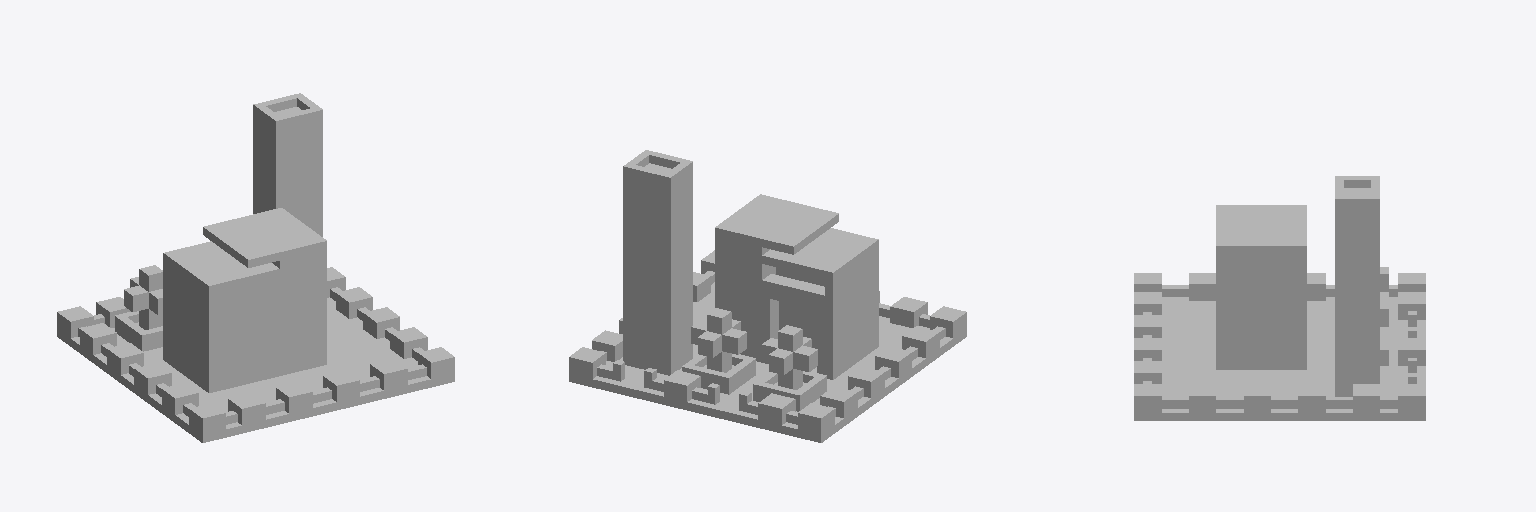
Rendered from house1.obj.
3 views of the same model, side by side, from view 1: azimuth 30°, elevation 25°; view 2: azimuth 150°, elevation 25°; view 3: azimuth 270°, elevation 25° (orthographic).
Visible parts, largest first — view 1: object 1; view 2: object 1; view 3: object 1.
Boxes of the visible parts, x1=… form: object 1: x1=57, y1=93, x2=454, y2=442; object 1: x1=569, y1=150, x2=966, y2=442; object 1: x1=1134, y1=176, x2=1425, y2=420.
Size of the model in its own units: 3.2 by 2.5 by 3.2.